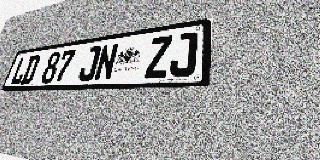7: (52, 49, 76, 83)
8: (40, 51, 62, 83)
D: (20, 54, 41, 84)
J: (168, 31, 198, 77), (77, 45, 102, 82)
L: (9, 56, 30, 85)
N: (93, 43, 119, 81)
Z: (144, 35, 173, 79)
